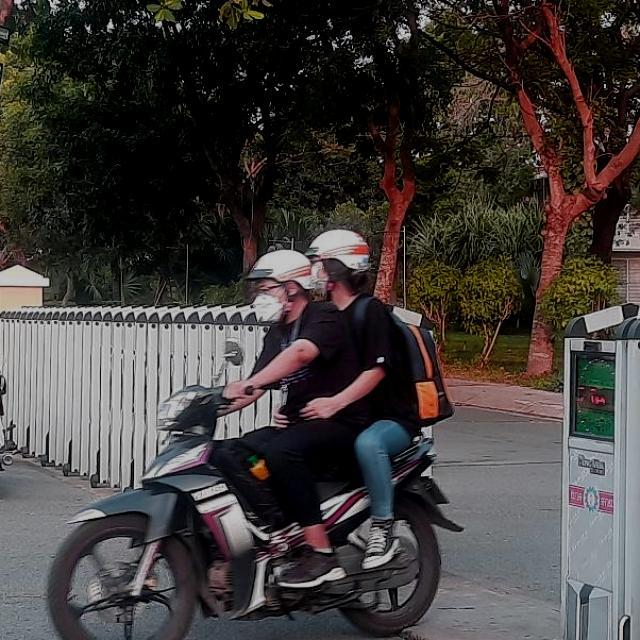Helmet: (248, 248, 314, 326), (307, 225, 367, 292)
